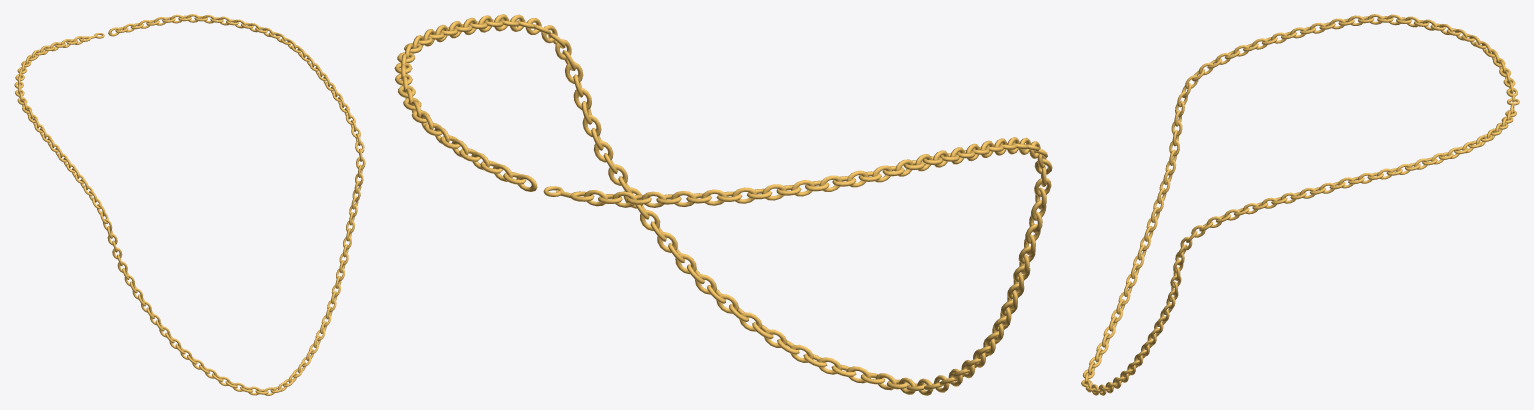
File: chain-cable-gold.glb
3 renders of one model, left to right at view 1: azimuth 30°, elevation 25°; view 2: azimuth 150°, elevation 25°; view 3: azimuth 270°, elevation 25°, orthographic. The views are drawn at different scales.
Visible parts, largest first — view 1: chain-cable-gold_gold22k; view 2: chain-cable-gold_gold22k; view 3: chain-cable-gold_gold22k.
Boxes of the visible parts, x1,y1,x2,y2 form: chain-cable-gold_gold22k: (14, 14, 365, 395); chain-cable-gold_gold22k: (394, 14, 1052, 395); chain-cable-gold_gold22k: (1081, 14, 1519, 395).
Size of the model in its own units: 12.36 by 10.28 by 13.66.
